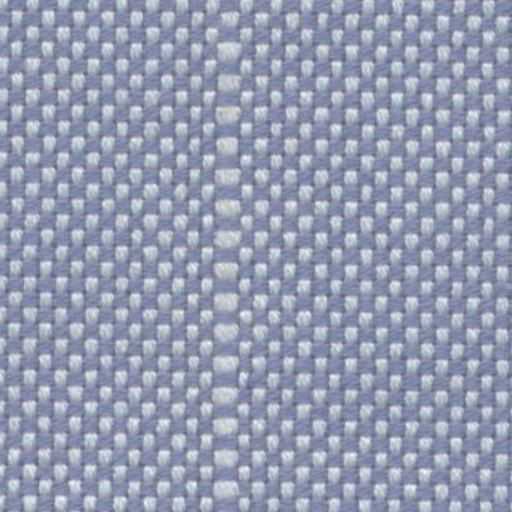TuoSha: (194, 12, 270, 495)
